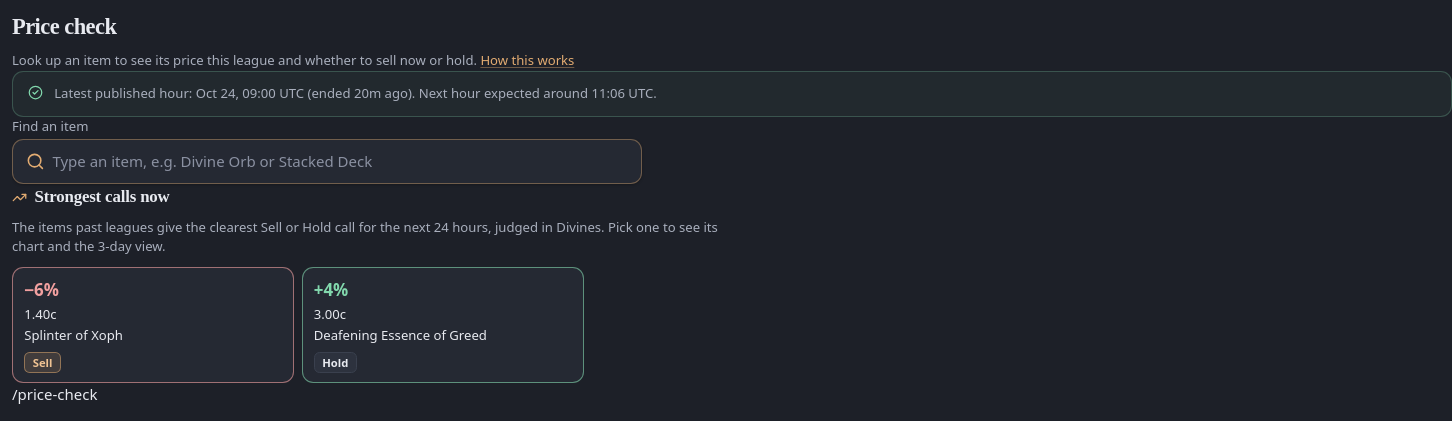
Test: Price check › opens on the search and the movers, strongest first, money first
The image size is (1452, 421).
Check: the links read "−6%1.40cSplinter of XophSell", "+4%3.00cDeafening Essence of GreedHold", in this order, box top-left (12, 267), bottom-right (294, 384); top-left (302, 267), bottom-right (584, 384)
// Focused, the search lists every item, most traded first, each with its group.
Focus the dropdown labelled "Find an item" at [340, 162], box top-left (52, 150), bottom-right (628, 173)
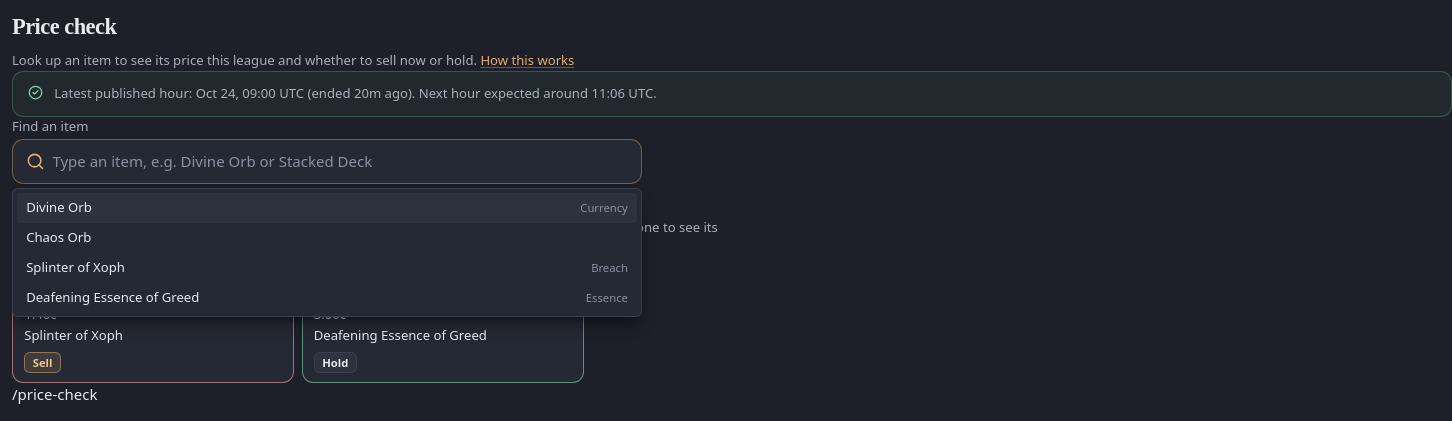
Check: the options read "Divine OrbCurrency", "Chaos Orb", "Splinter of XophBreach", "Deafening Essence of GreedEssence", in this order, box top-left (17, 193), bottom-right (637, 223); top-left (26, 228), bottom-right (91, 246); top-left (17, 253), bottom-right (637, 283); top-left (17, 283), bottom-right (637, 313)
